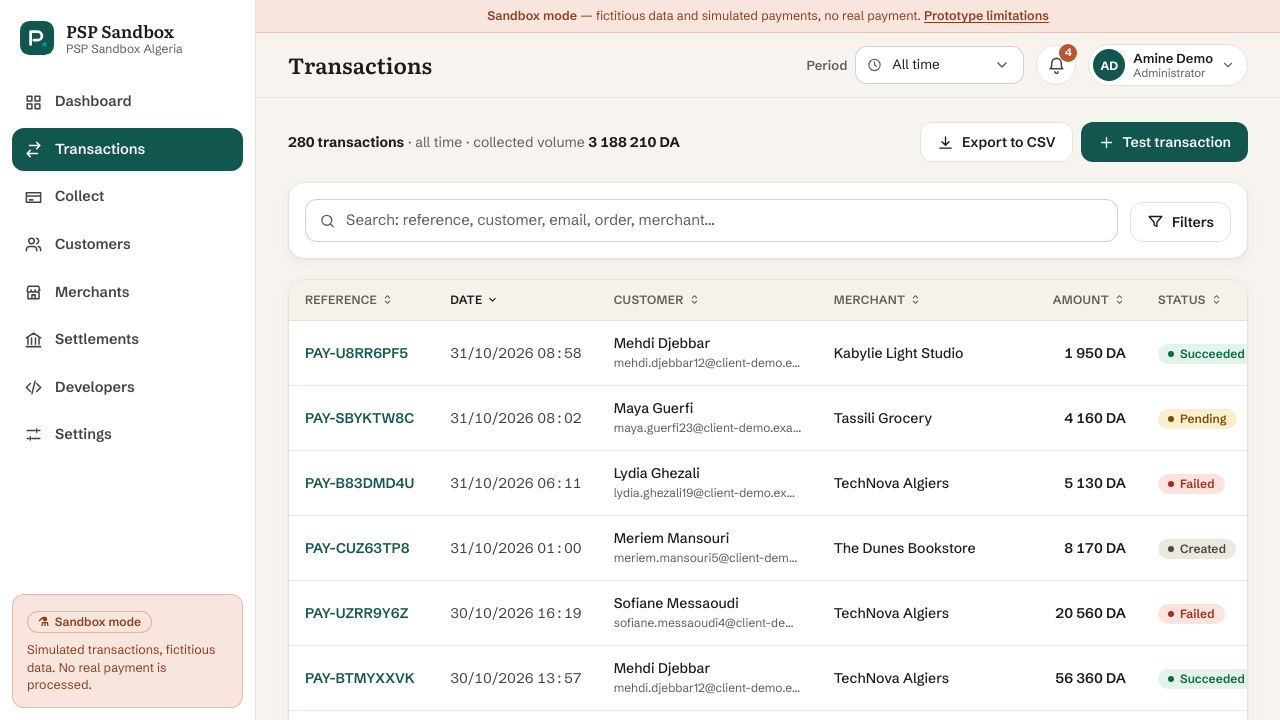
Test case: transaction list: search, filters, sorting, export › sorts by amount (aria-sort) and paginates
What coordinates should you click on to do the following:
click the button with aria-label "Sort by amount"
I would click on:
 (1089, 300)
Its box is [1053, 290, 1126, 310].
(page scrolled)
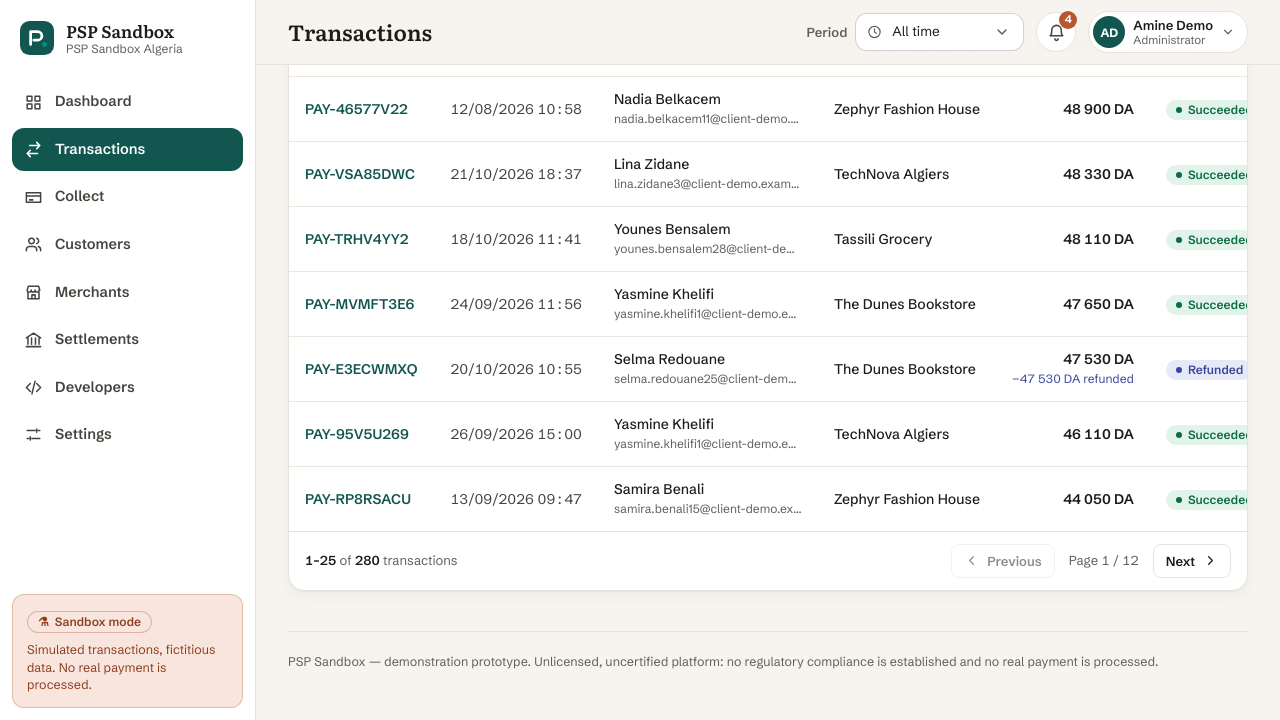
What coordinates should you click on to do the following:
click the button with aria-label "Next page"
I would click on:
 (1192, 561)
Its box is [1153, 544, 1231, 578].
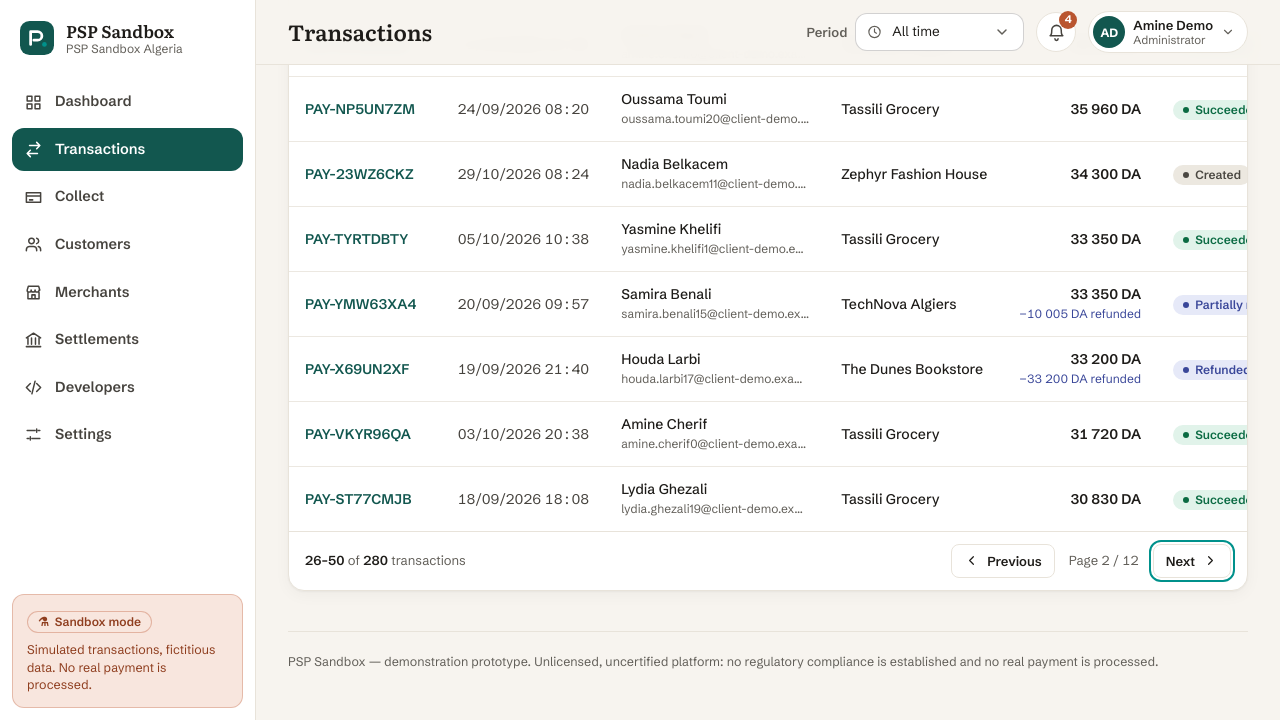
Expected: the text "Page 2 / 12" is shown, [1069, 552, 1139, 568]
